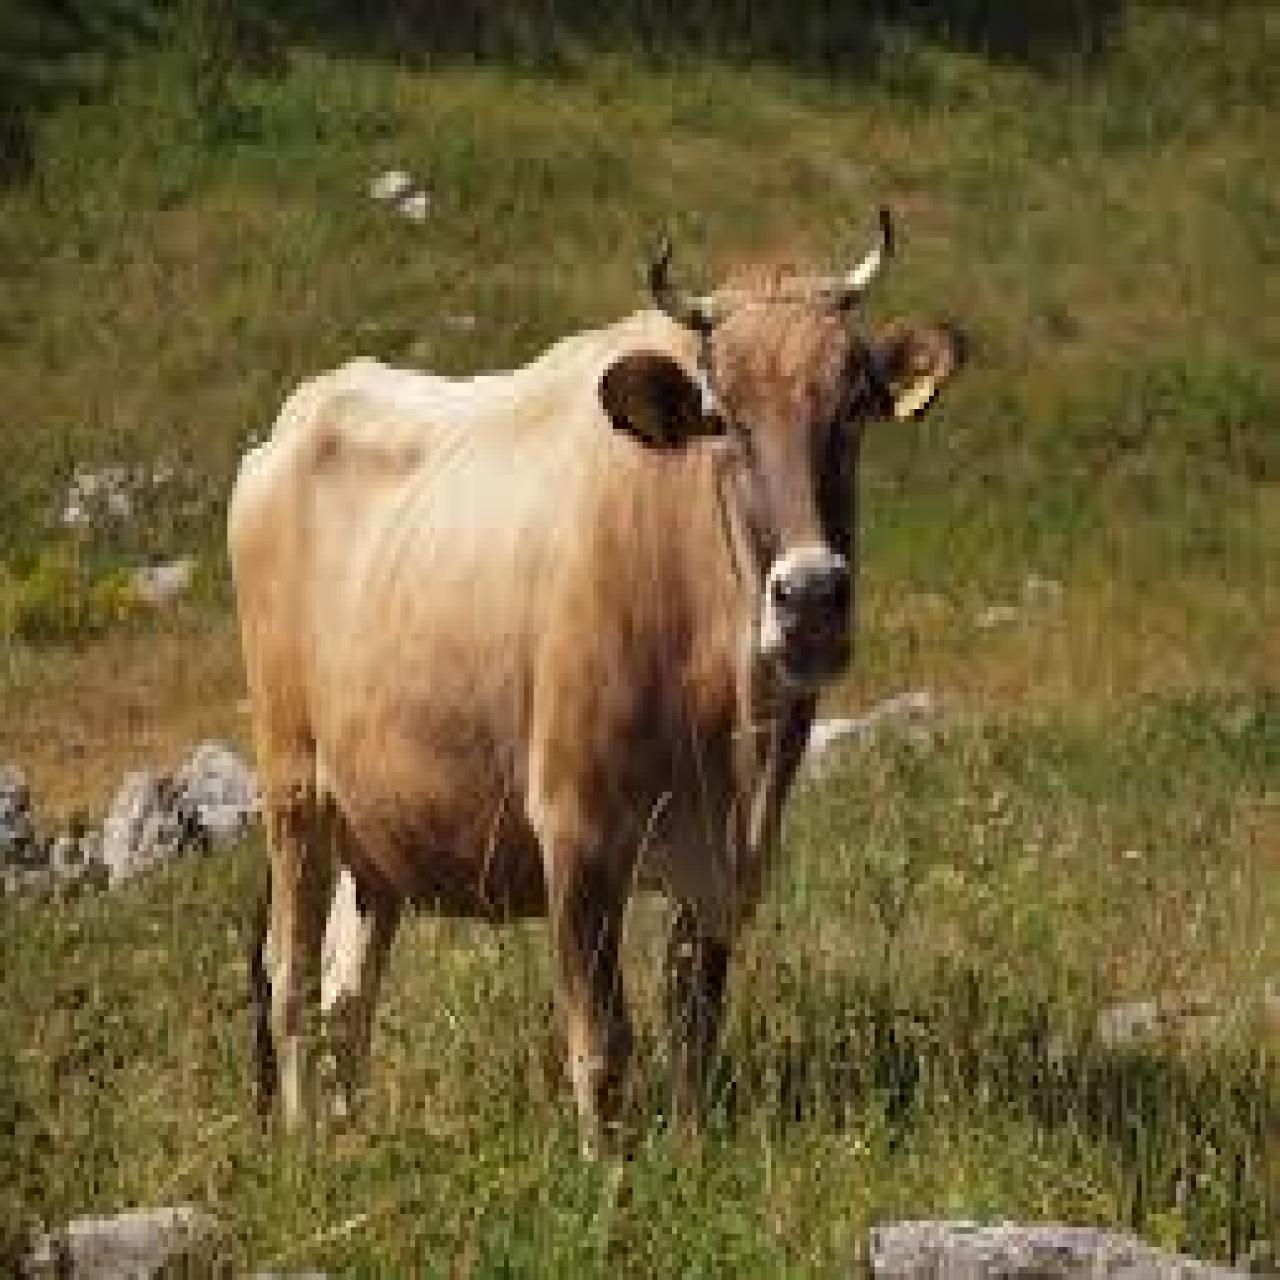cow: (230, 280, 972, 1178)
